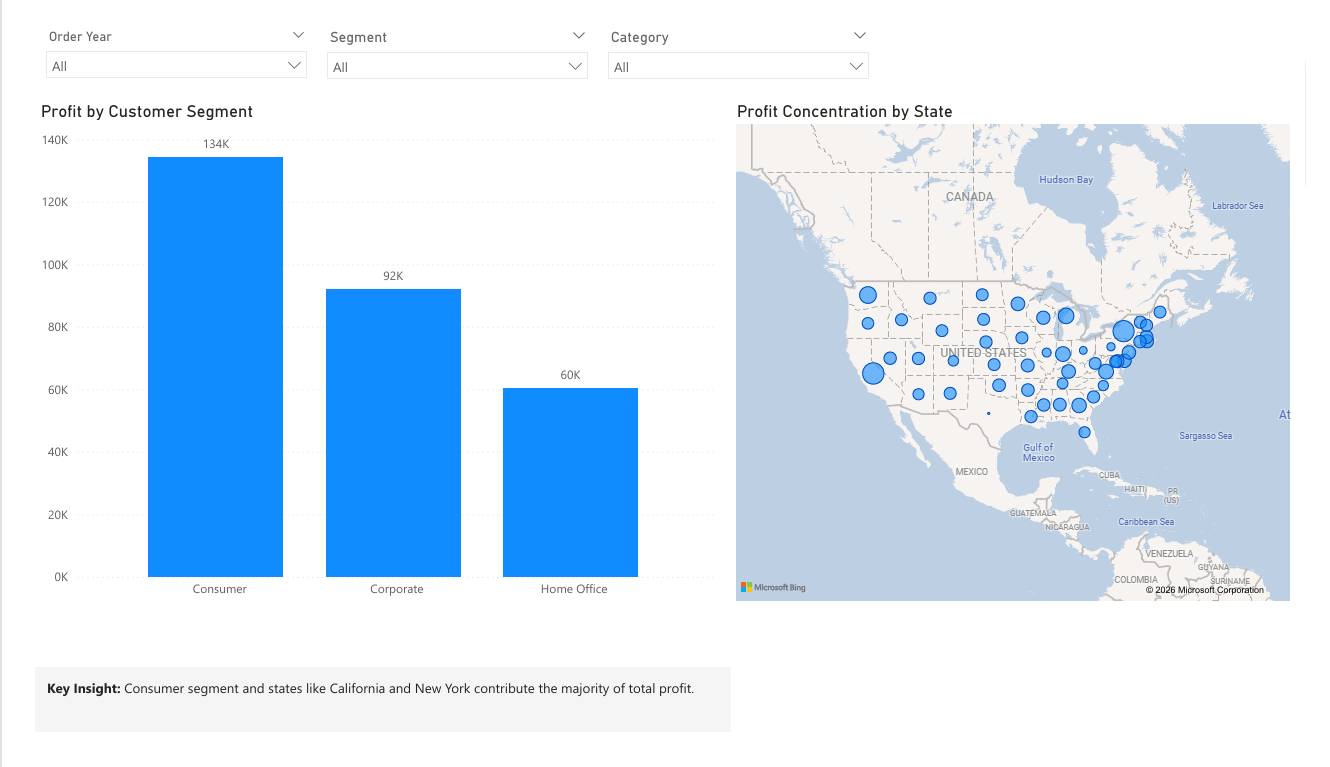

What the dashboard file says about the page in this screenshot:
{"tool":"powerbi","page":{"name":"Customer & Market Insights","canvas":[1280,720],"ordinal":1},"visuals":[{"type":"columnChart","title":"Profit by Customer Segment","fields":{"Category":["record_analysis records.segment"],"Y":["Sum(record_analysis records.profit)"]},"box":[9.7,76.8,685.7,505.8],"z":0},{"type":"map","title":"Profit Concentration by State","fields":{"Category":["record_analysis records.state"],"Size":["Sum(record_analysis records.profit)"]},"box":[706.1,76.8,564.1,505.8],"z":1000},{"type":"slicer","fields":{"Values":["record_analysis records.order_year"]},"box":[9.7,0,281.1,76.8],"z":2000,"group":"g1"},{"type":"slicer","fields":{"Values":["record_analysis records.segment"]},"box":[290.8,0,281.1,76.8],"z":3000,"group":"g1"},{"type":"slicer","fields":{"Values":["record_analysis records.category"]},"box":[571.9,0,281.1,76.8],"z":4000,"group":"g1"},{"type":"textbox","box":[9.7,643.9,696.4,65.2],"z":5000},{"type":"group","id":"g1","title":"Group 1","box":[9.7,0,843.3,76.8],"z":5001}]}

Visuals, with their boxes in screenshot pixels (x1, y1, x2, y2), scaled from the page's 1280x720 canvas onto the 1330x767 screenshot:
"Profit by Customer Segment" columnChart: left=10, top=82, right=723, bottom=621
"Profit Concentration by State" map: left=734, top=82, right=1320, bottom=621
slicer - record_analysis records.order_year: left=10, top=0, right=302, bottom=82
slicer - record_analysis records.segment: left=302, top=0, right=594, bottom=82
slicer - record_analysis records.category: left=594, top=0, right=886, bottom=82
textbox: left=10, top=686, right=734, bottom=755
"Group 1" group: left=10, top=0, right=886, bottom=82
